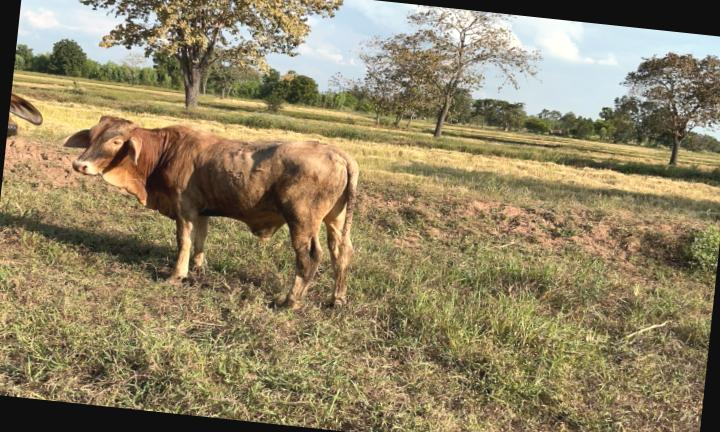Charolais: (63, 116, 358, 307)
